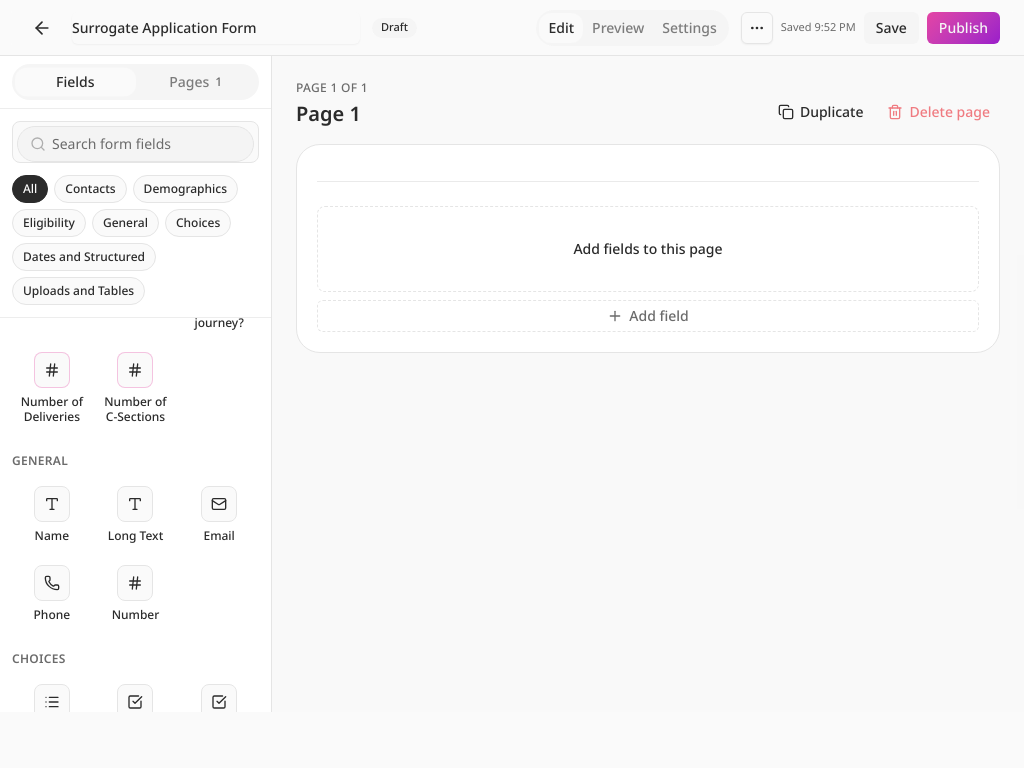
Scenario: PlatformFormTemplatePage › adds a field from the palette without requiring drag and drop
The image size is (1024, 768).
(page scrolled)
Click the button with aria-label "add name field". click: (52, 514)
box: [12,477,92,552]
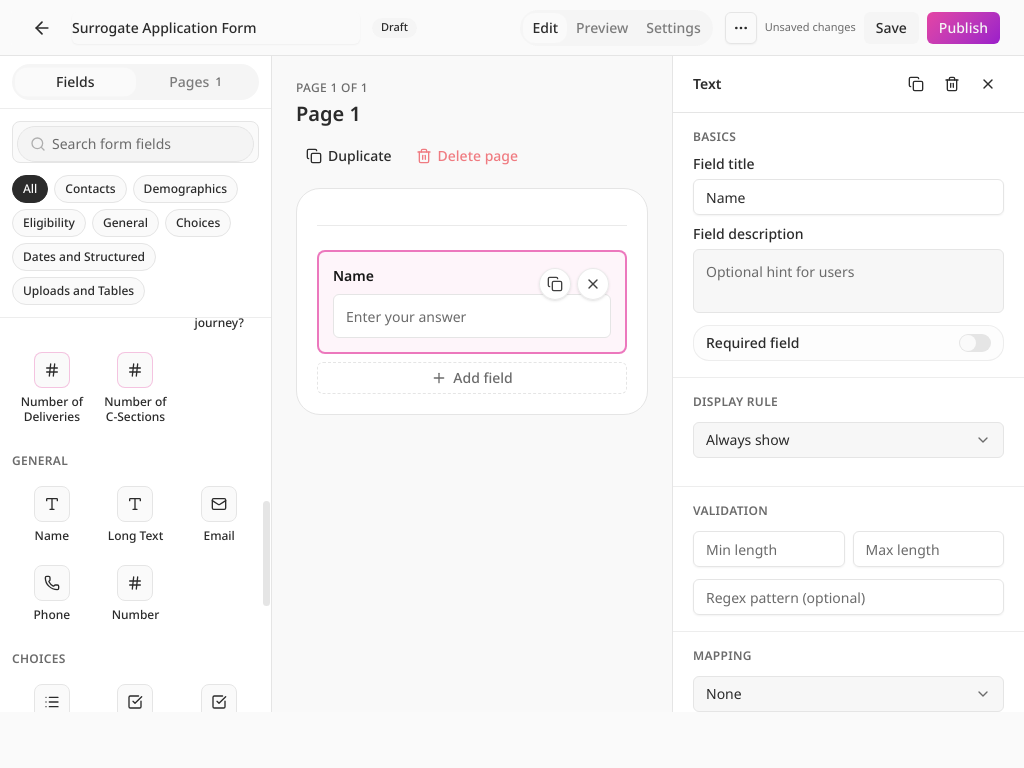
Now the button named "select name field" is shown, box [319,252,625,352]
